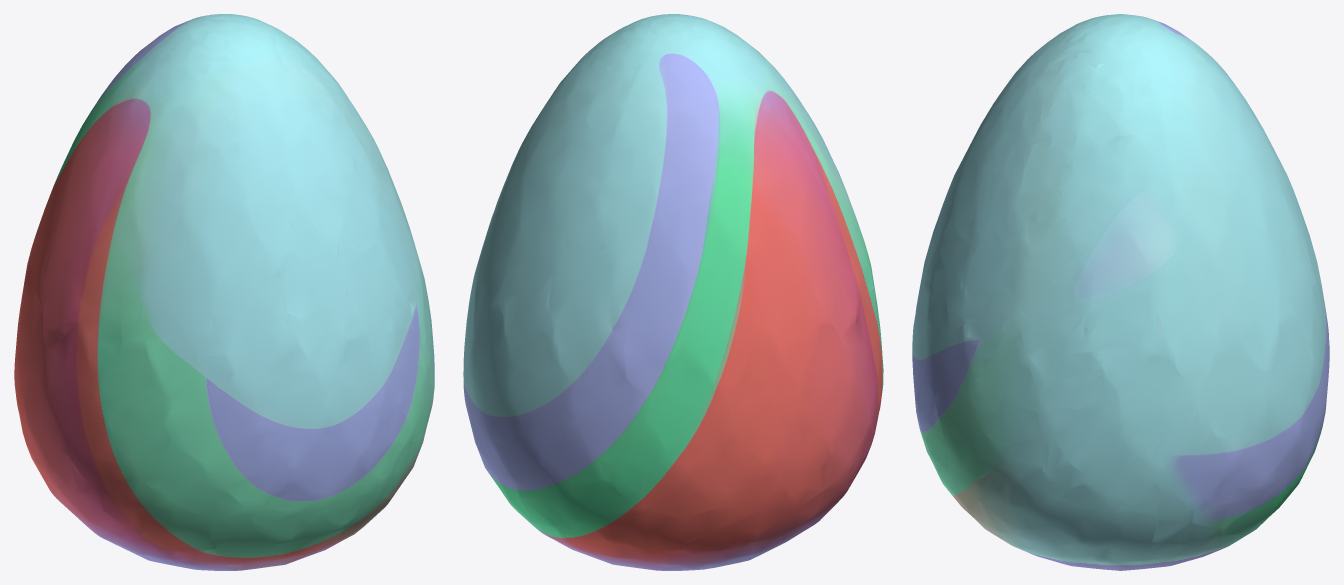
File: static.glb
The picture shows the model from 3 angles, left to right: view 1: azimuth 30°, elevation 25°; view 2: azimuth 150°, elevation 25°; view 3: azimuth 270°, elevation 25°; orthographic projection.
Visible parts, largest first — view 1: Mesh_0; view 2: Mesh_0; view 3: Mesh_0.
Part boxes in pixels (bbox=[...]): Mesh_0: bbox=[14, 14, 434, 570]; Mesh_0: bbox=[463, 14, 883, 570]; Mesh_0: bbox=[912, 14, 1329, 570].
Size of the model in its own units: 1.36 by 1.9 by 1.36.
1 material, 1 textured.
